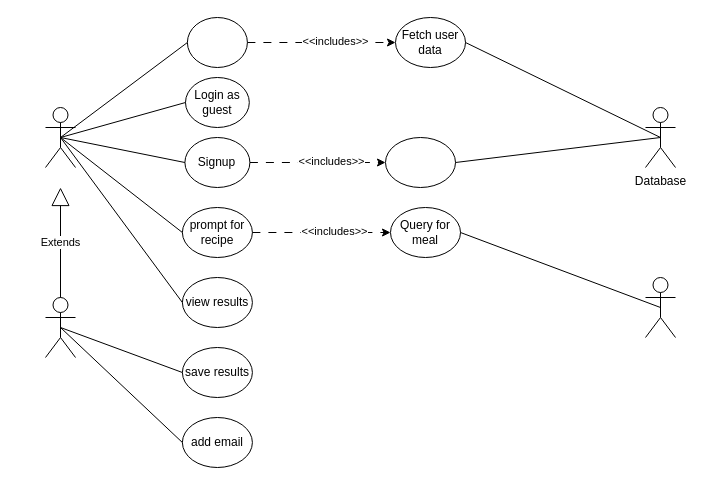
The diagram is 718 pixels wide and 485 high, and some of its shapes have lost their labels. The centre of each missing label's shape, as x and y in pixels:
Google Gemini: the point at 660,307
Login: the point at 216,42
Registered User: the point at 60,327
save user data: the point at 420,162
User: the point at 60,137
